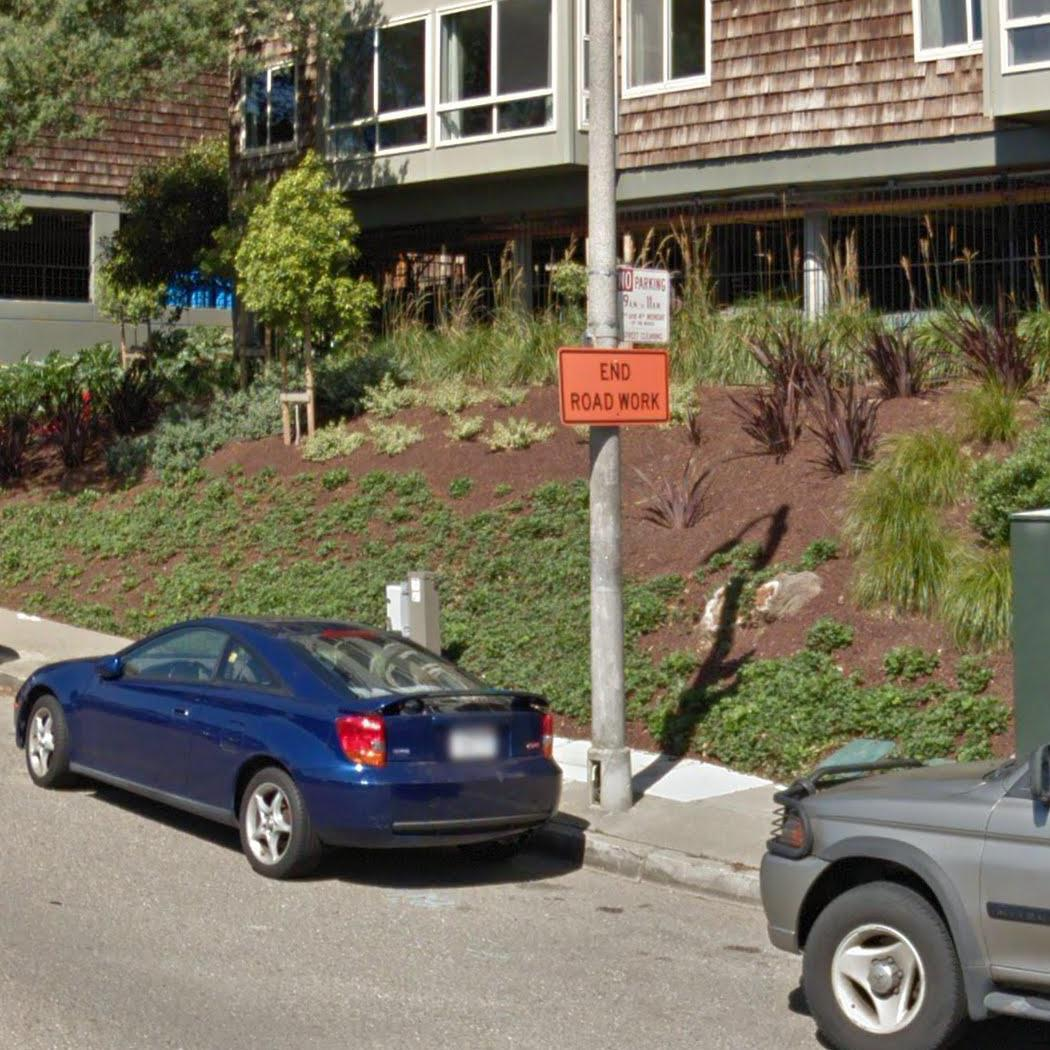No Parking: (608, 262, 673, 347)
